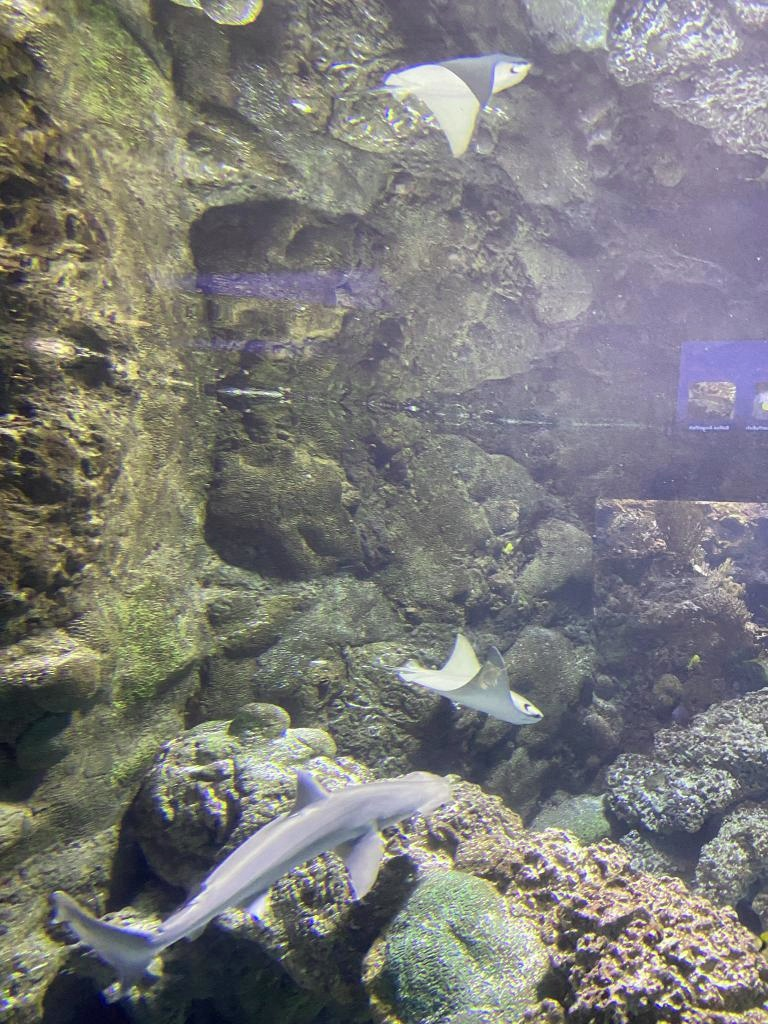shark: (54, 769, 450, 981)
stingray: (384, 51, 532, 157), (398, 633, 544, 735)
